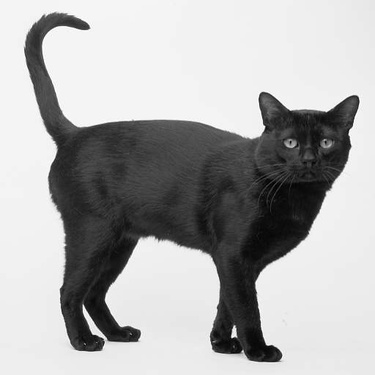cat: (24, 14, 360, 364)
